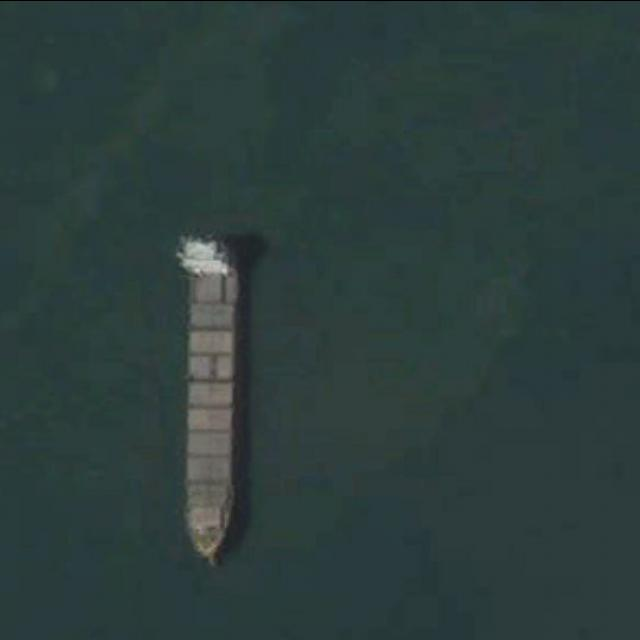ship: (172, 225, 242, 569)
